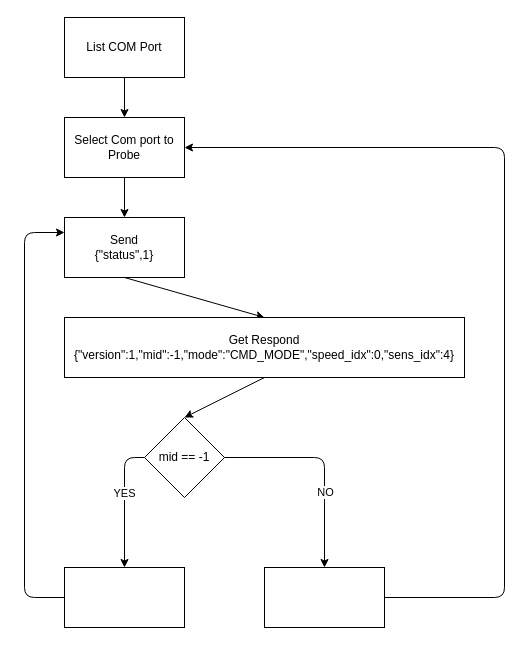
The diagram is 530 pixels wide and 645 high, and some of its shapes have lost their labels. The shapes that lost their labels are listed below. From the top down, each one's centre as x and y in pixels, then its label:
(x=124, y=597): Send {"new_id": 999} Set id to 999
(x=324, y=597): Send {"led":1,"time":2000} Turn on LED for 2 Secods
